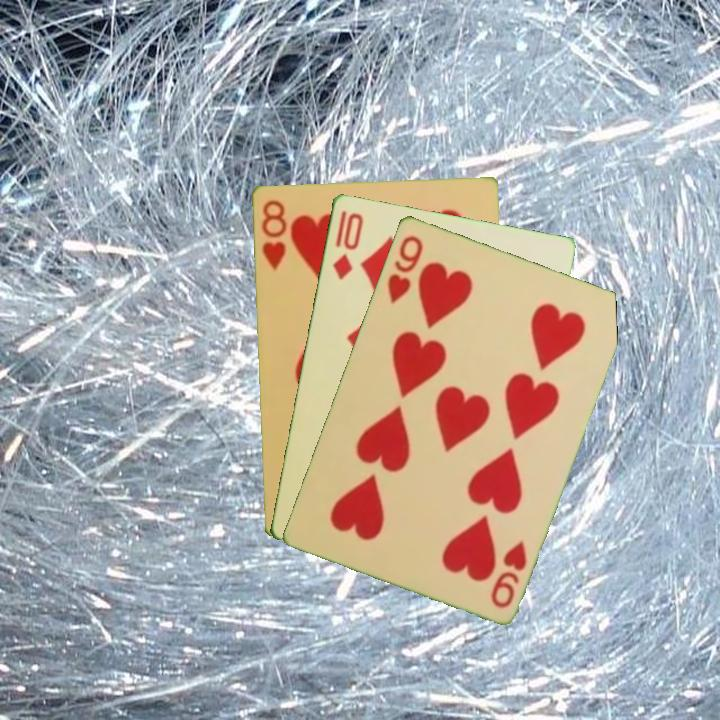10d: (328, 207, 366, 282)
8h: (258, 196, 289, 273)
9h: (383, 231, 426, 306), (487, 536, 530, 611)
